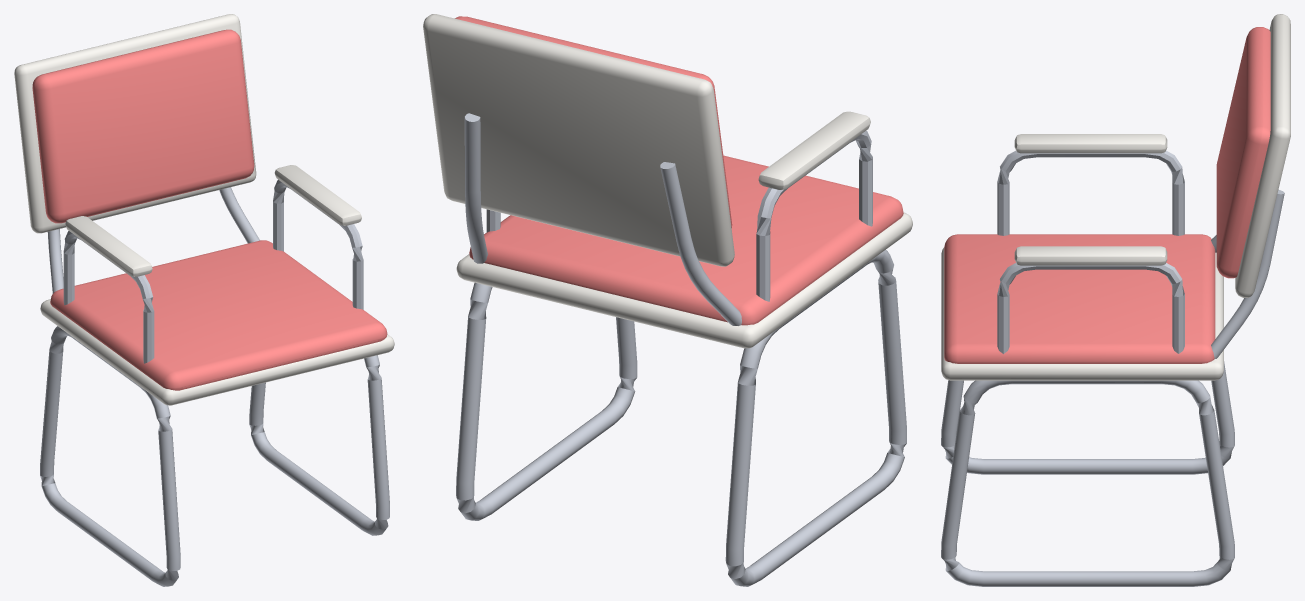
The model's file is meeting_chair.glb.
3 views of the same model, side by side, from view 1: azimuth 30°, elevation 25°; view 2: azimuth 150°, elevation 25°; view 3: azimuth 270°, elevation 25° (orthographic). The views are drawn at different scales.
Parts seen in each view (by area): view 1: accent_fabric, chrome, shell; view 2: shell, chrome, accent_fabric; view 3: accent_fabric, chrome, shell.
Boxes of the visible parts, <box> form: accent_fabric: <box>32,29,387,390</box>; chrome: <box>40,179,389,586</box>; shell: <box>14,14,394,405</box>; shell: <box>423,14,912,348</box>; chrome: <box>456,113,906,586</box>; accent_fabric: <box>455,16,903,325</box>; accent_fabric: <box>944,27,1270,363</box>; chrome: <box>941,150,1284,586</box>; shell: <box>941,14,1290,380</box>.
Size of the model in its own units: 0.52 by 0.8965 by 0.619.
